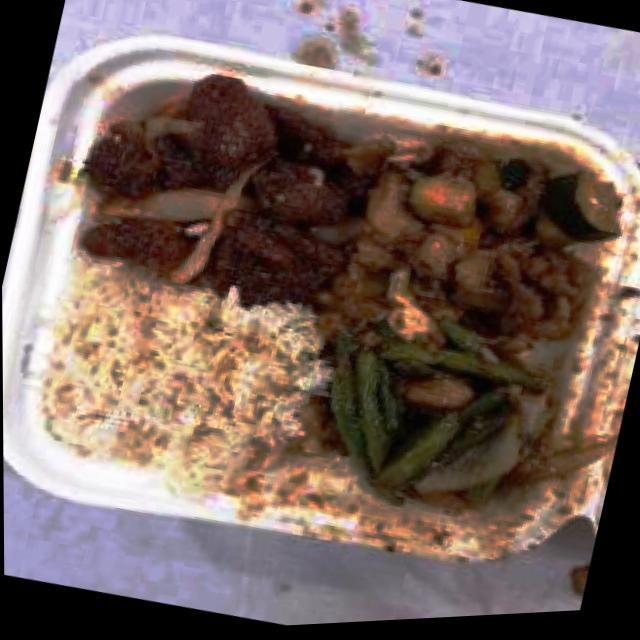Beijing Beef: (72, 41, 392, 331)
Kung Pao Chicken: (347, 113, 623, 368)
String Bean Chicken Breast: (307, 298, 566, 528)
rice: (20, 252, 338, 512)
